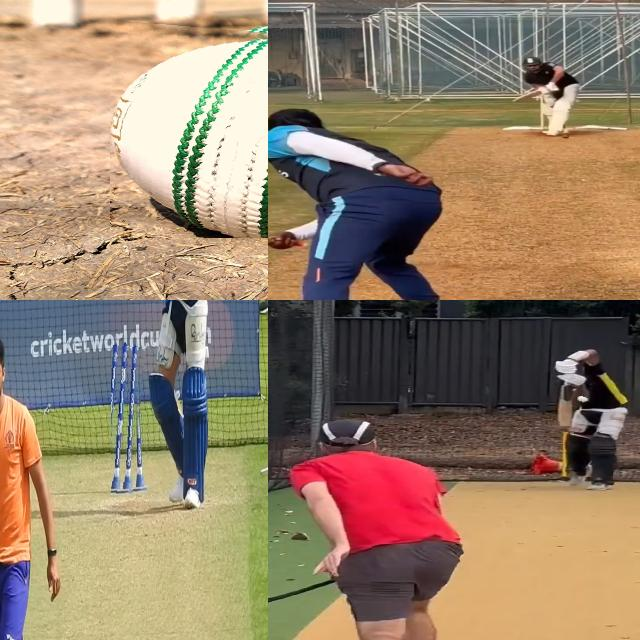Cricket ball: (110, 19, 268, 238), (576, 395, 590, 404)
Stumps: (111, 339, 146, 495), (562, 134, 569, 139)
